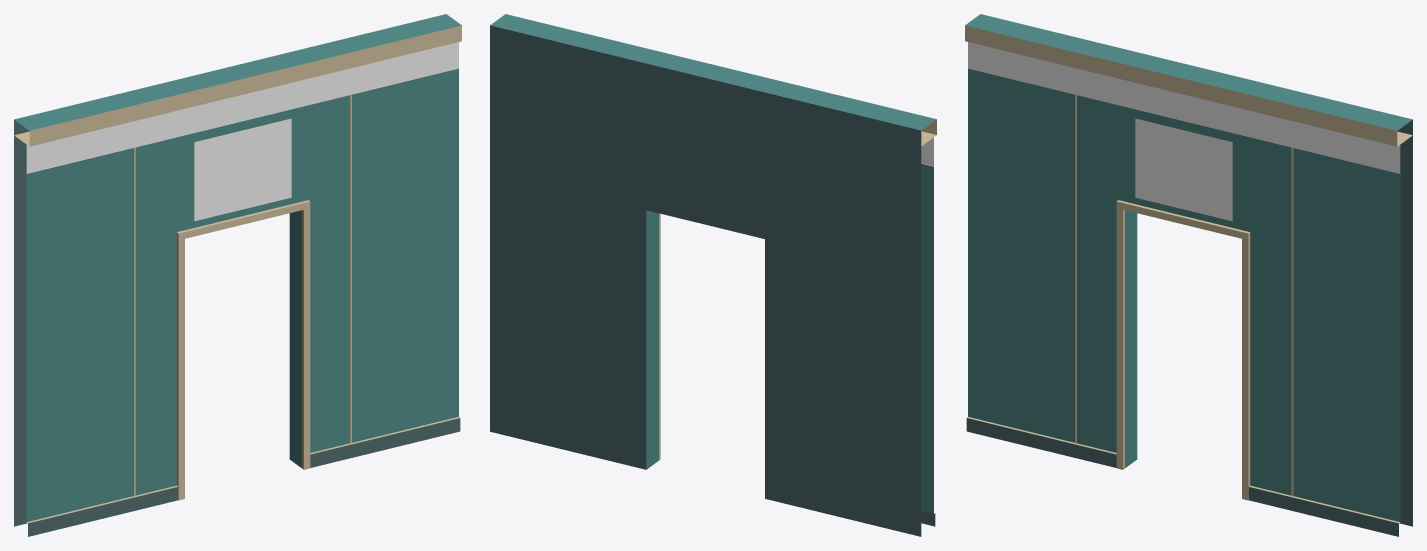
Rendered from KC32__AD_Int_Room_Wall_Door_Coral.glb.
3 renders of one model, left to right at view 1: azimuth 30°, elevation 25°; view 2: azimuth 150°, elevation 25°; view 3: azimuth 330°, elevation 25°, orthographic.
Visible parts, largest first — view 1: KC32_CORPS__AD_Int_Room_Wall_Door_Coral, KC32_ACCENT__AD_Int_Room_Wall_Door_Coral, KC32_BRONZE__AD_Int_Room_Wall_Door_Coral; view 2: KC32_CORPS__AD_Int_Room_Wall_Door_Coral, KC32_BRONZE__AD_Int_Room_Wall_Door_Coral; view 3: KC32_CORPS__AD_Int_Room_Wall_Door_Coral, KC32_ACCENT__AD_Int_Room_Wall_Door_Coral, KC32_BRONZE__AD_Int_Room_Wall_Door_Coral.
Boxes of the visible parts, box(x1,y1,x2,y2) form: KC32_CORPS__AD_Int_Room_Wall_Door_Coral: box(14, 14, 461, 536); KC32_ACCENT__AD_Int_Room_Wall_Door_Coral: box(26, 42, 458, 221); KC32_BRONZE__AD_Int_Room_Wall_Door_Coral: box(14, 25, 461, 523); KC32_CORPS__AD_Int_Room_Wall_Door_Coral: box(490, 14, 936, 536); KC32_BRONZE__AD_Int_Room_Wall_Door_Coral: box(659, 119, 936, 513); KC32_CORPS__AD_Int_Room_Wall_Door_Coral: box(965, 14, 1412, 536); KC32_ACCENT__AD_Int_Room_Wall_Door_Coral: box(968, 42, 1400, 221); KC32_BRONZE__AD_Int_Room_Wall_Door_Coral: box(965, 25, 1412, 523).
Size of the model in its own units: 4 by 3.6 by 0.25.
